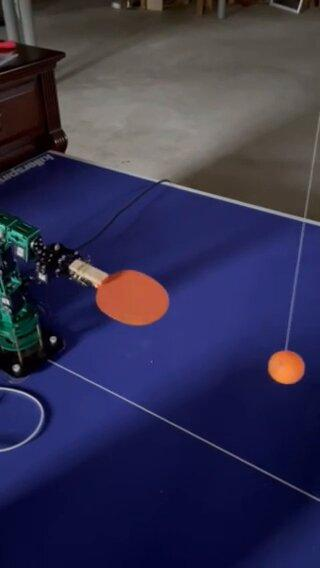oball: (269, 350, 303, 384)
